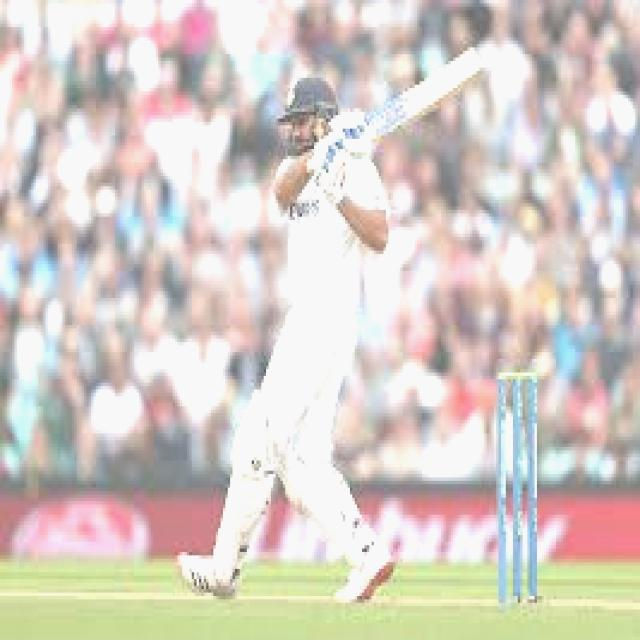toe: (462, 45, 483, 81)
